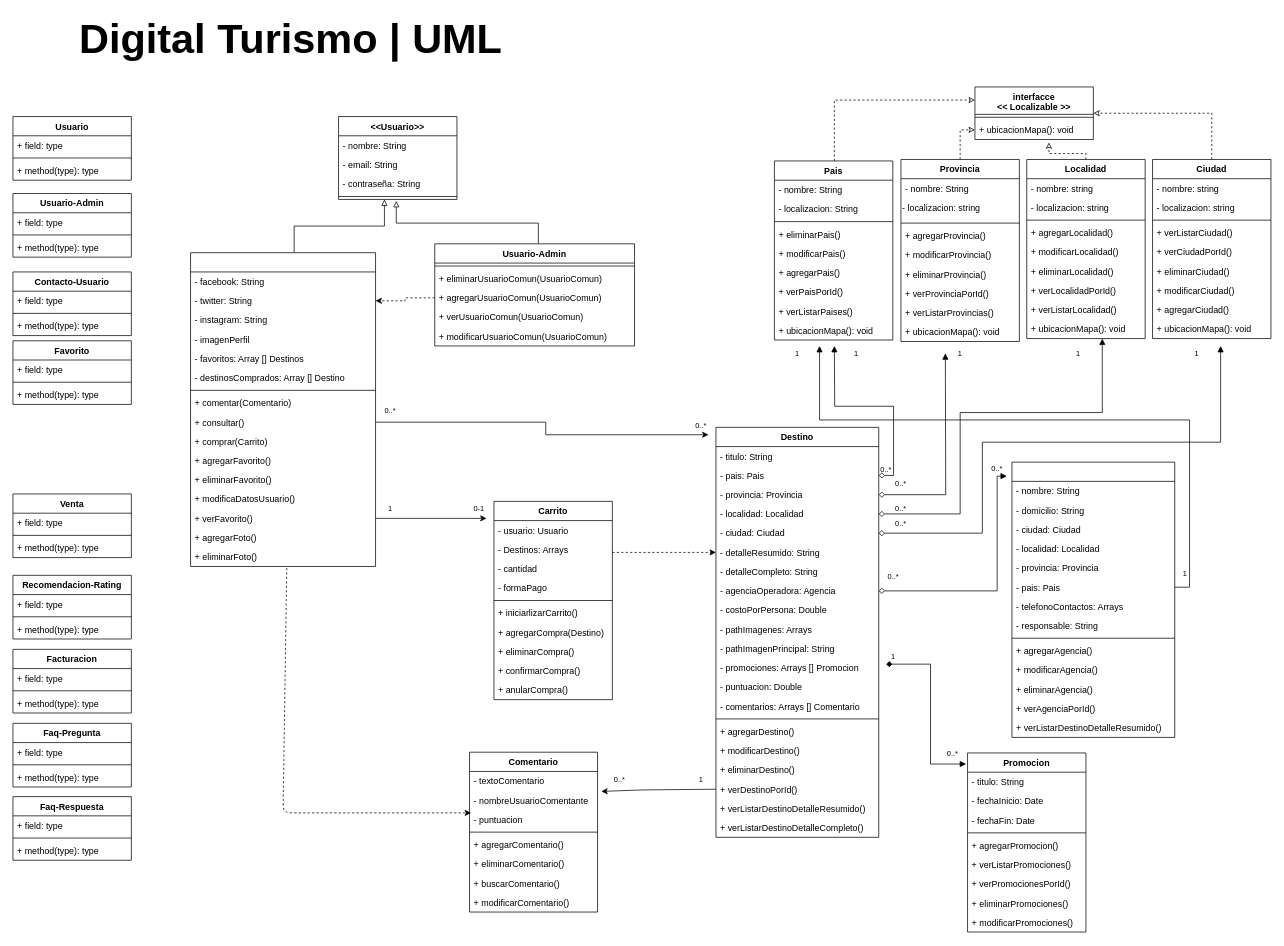
This 1284x946 diagram has some shape labels left out. Each missing label, with the box of its shape:
Agencia-Viaje: (1011, 461, 1175, 737)
UsuarioComun: (190, 252, 376, 566)
